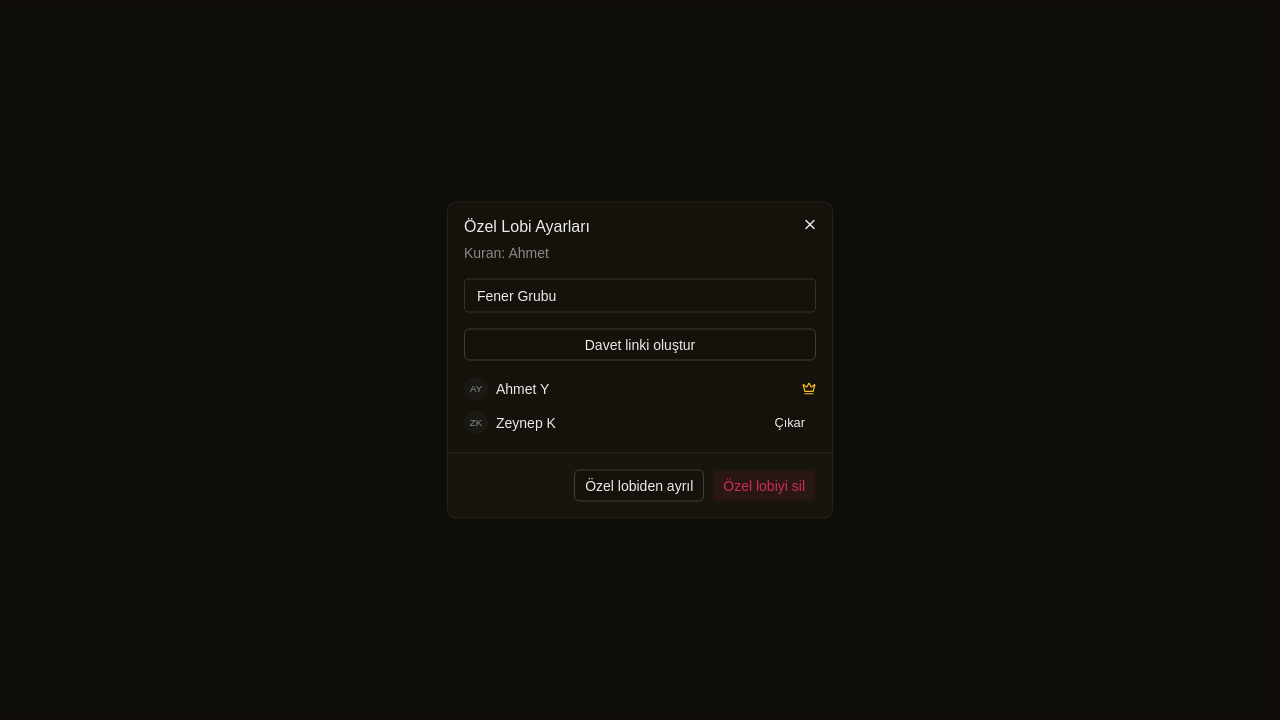
Test case: LobbyManagementPanel › shows the delete error inside the still-open confirmation dialog when deleteLobby fails
Click the button "Özel lobiyi sil" at (764, 486), box x1=712 y1=470 x2=816 y2=502
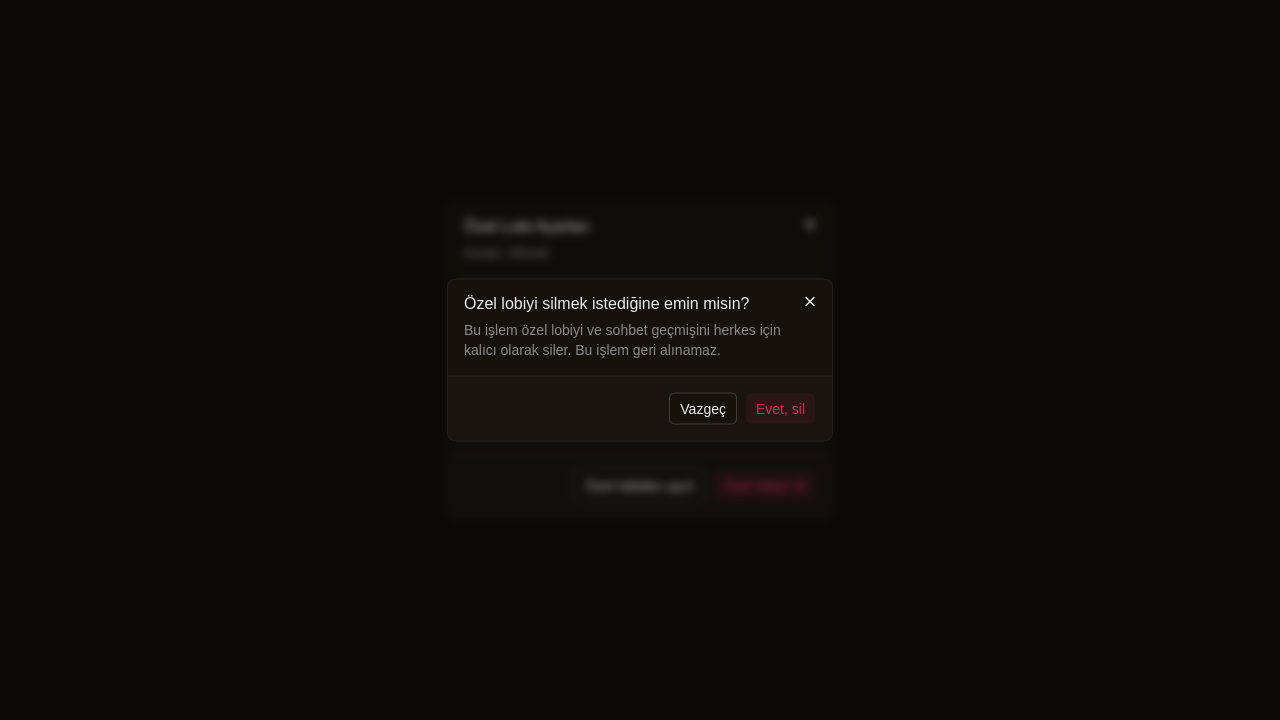
Click the button "Evet, sil" at (780, 408), box x1=745 y1=392 x2=816 y2=424
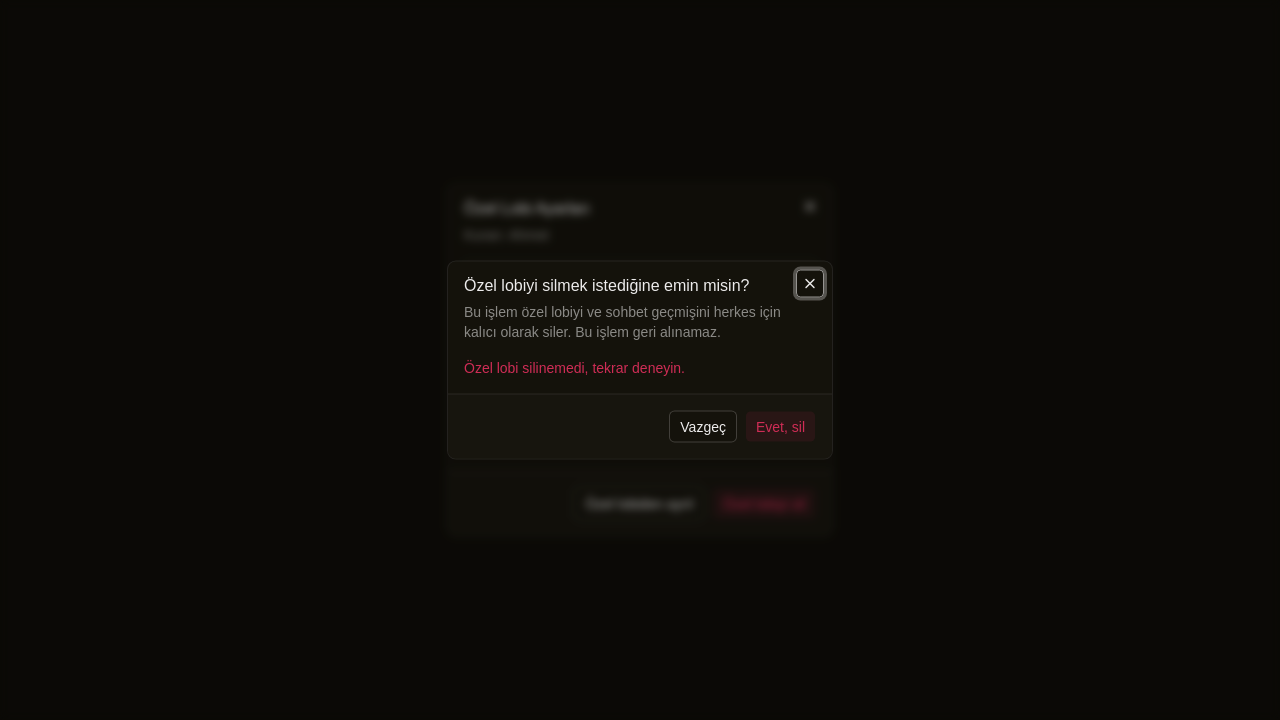
Expected: the heading "Özel lobiyi silmek istediğine emin misin?" is shown, x1=464 y1=276 x2=749 y2=294
Expected: the message reads "Özel lobi silinemedi, tekrar deneyin.", x1=464 y1=360 x2=685 y2=376
